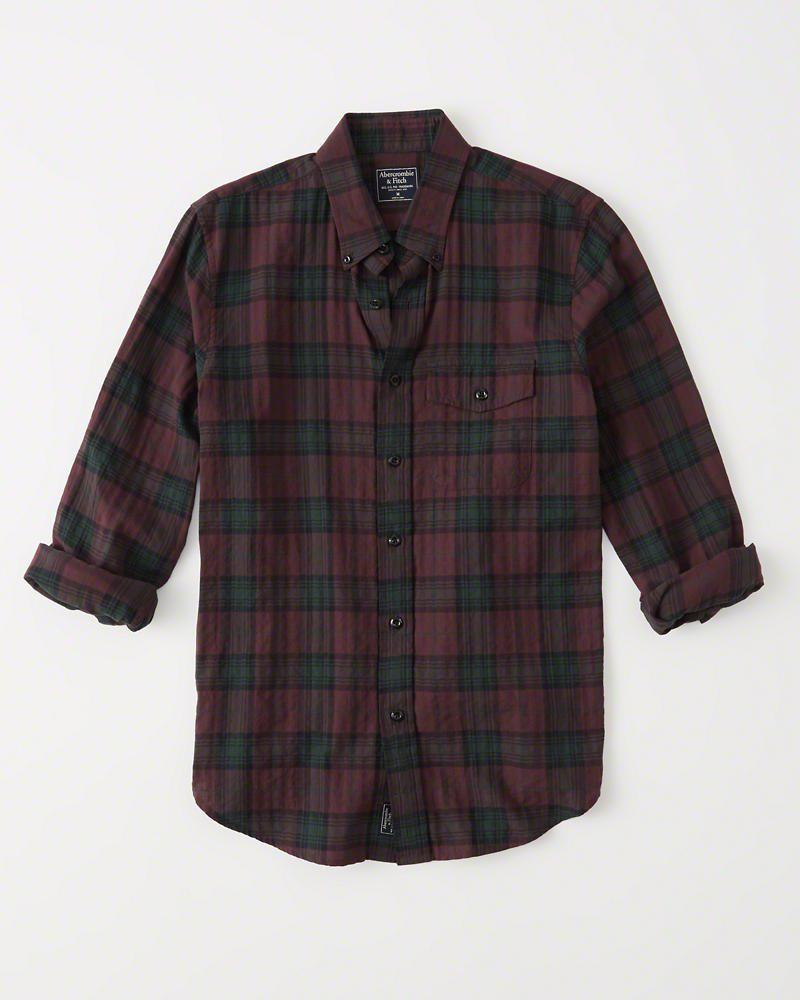teeshirt: (12, 101, 771, 881)
